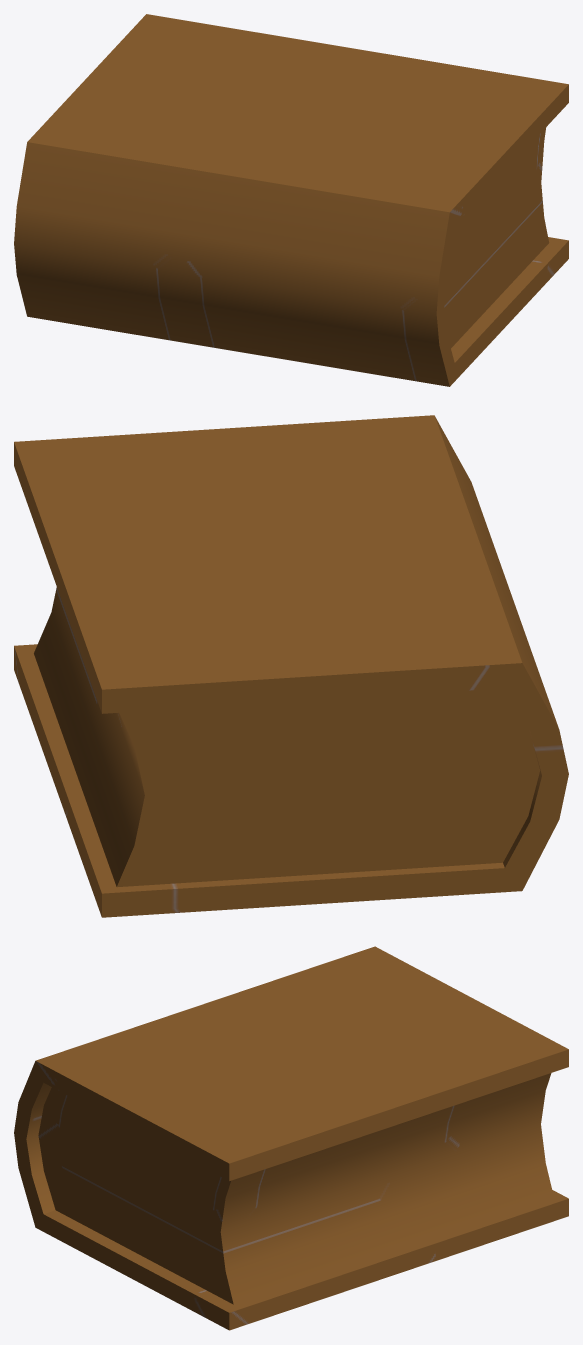
The model's file is Book_close.fbx.
The picture shows the model from 3 angles, top to bottom: view 1: azimuth 30°, elevation 25°; view 2: azimuth 150°, elevation 25°; view 3: azimuth 270°, elevation 25°; orthographic projection. The views are drawn at different scales.
Visible parts, largest first — view 1: Book_close; view 2: Book_close; view 3: Book_close.
Boxes of the visible parts, x1=… form: Book_close: x1=14, y1=14, x2=568, y2=386; Book_close: x1=14, y1=415, x2=568, y2=917; Book_close: x1=14, y1=946, x2=568, y2=1330.
Size of the model in its own units: 4.57 by 1.56 by 4.69.
